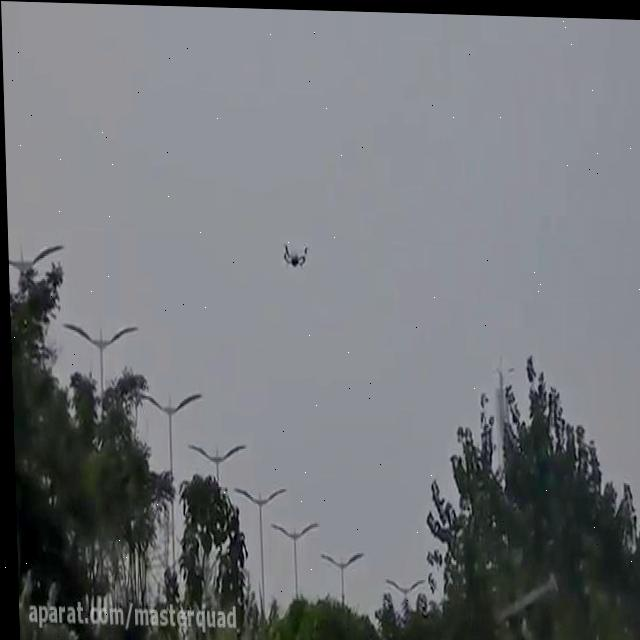drone: (275, 233, 310, 268)
